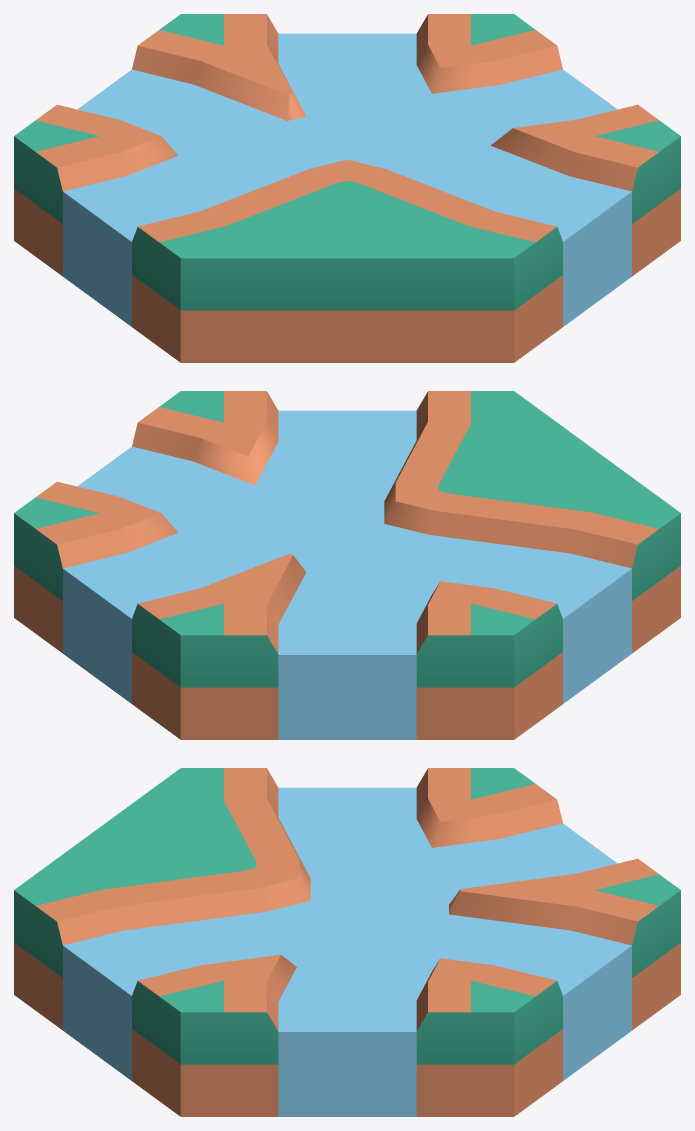
File: river-intersectionG.fbx
3 renders of one model, top to bottom at view 1: azimuth 30°, elevation 25°; view 2: azimuth 150°, elevation 25°; view 3: azimuth 270°, elevation 25°, orthographic.
Visible parts, largest first — view 1: river_intersectionG; view 2: river_intersectionG; view 3: river_intersectionG.
Boxes of the visible parts, x1=… form: river_intersectionG: x1=14, y1=14, x2=680, y2=362; river_intersectionG: x1=14, y1=391, x2=680, y2=739; river_intersectionG: x1=14, y1=768, x2=680, y2=1116.
Size of the model in its own units: 100 by 20 by 115.
Materials: 1 (1 with a texture image).
